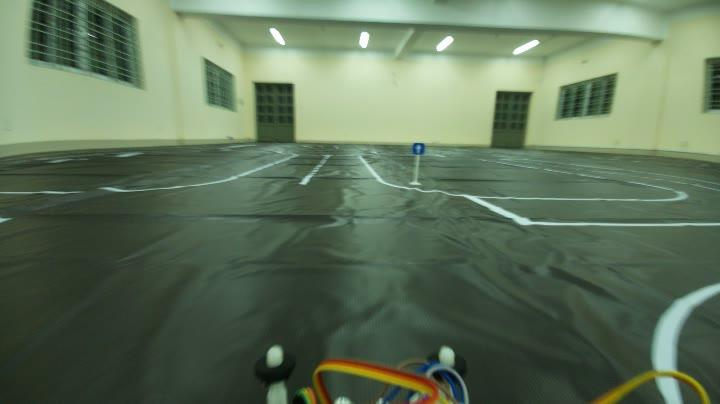onewayroad: (407, 138, 426, 158)
